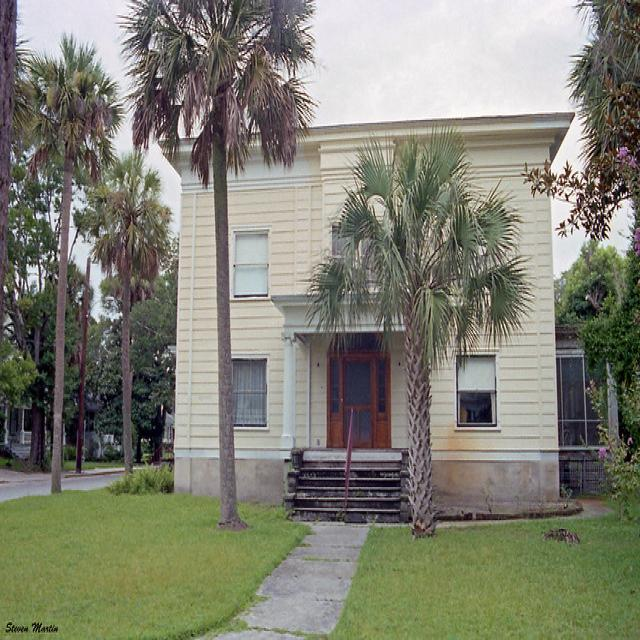building: (149, 104, 597, 518)
